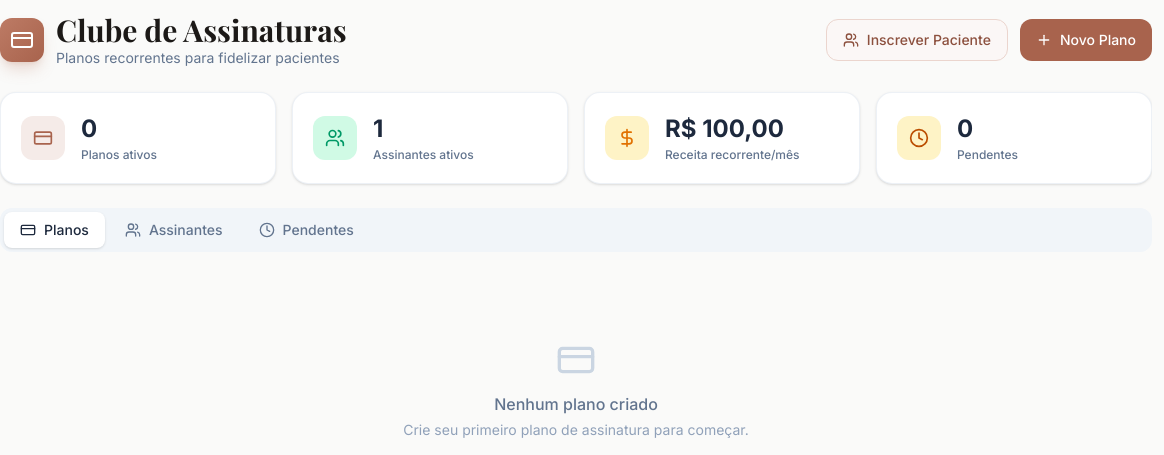
Test: pages/Subscriptions › barra de progresso de sessões: pinta vermelho e limita em 100% quando usadas >= limite
Click the button "Assinantes" at coordinates (174, 230), box [109,212,239,248]
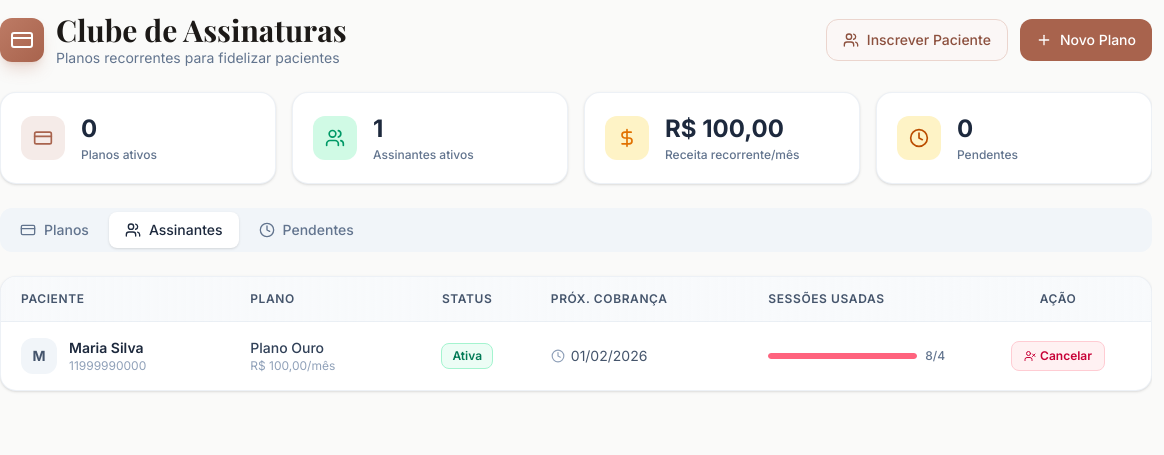
Check: the text "8/4" is shown, box [925,348,945,364]
